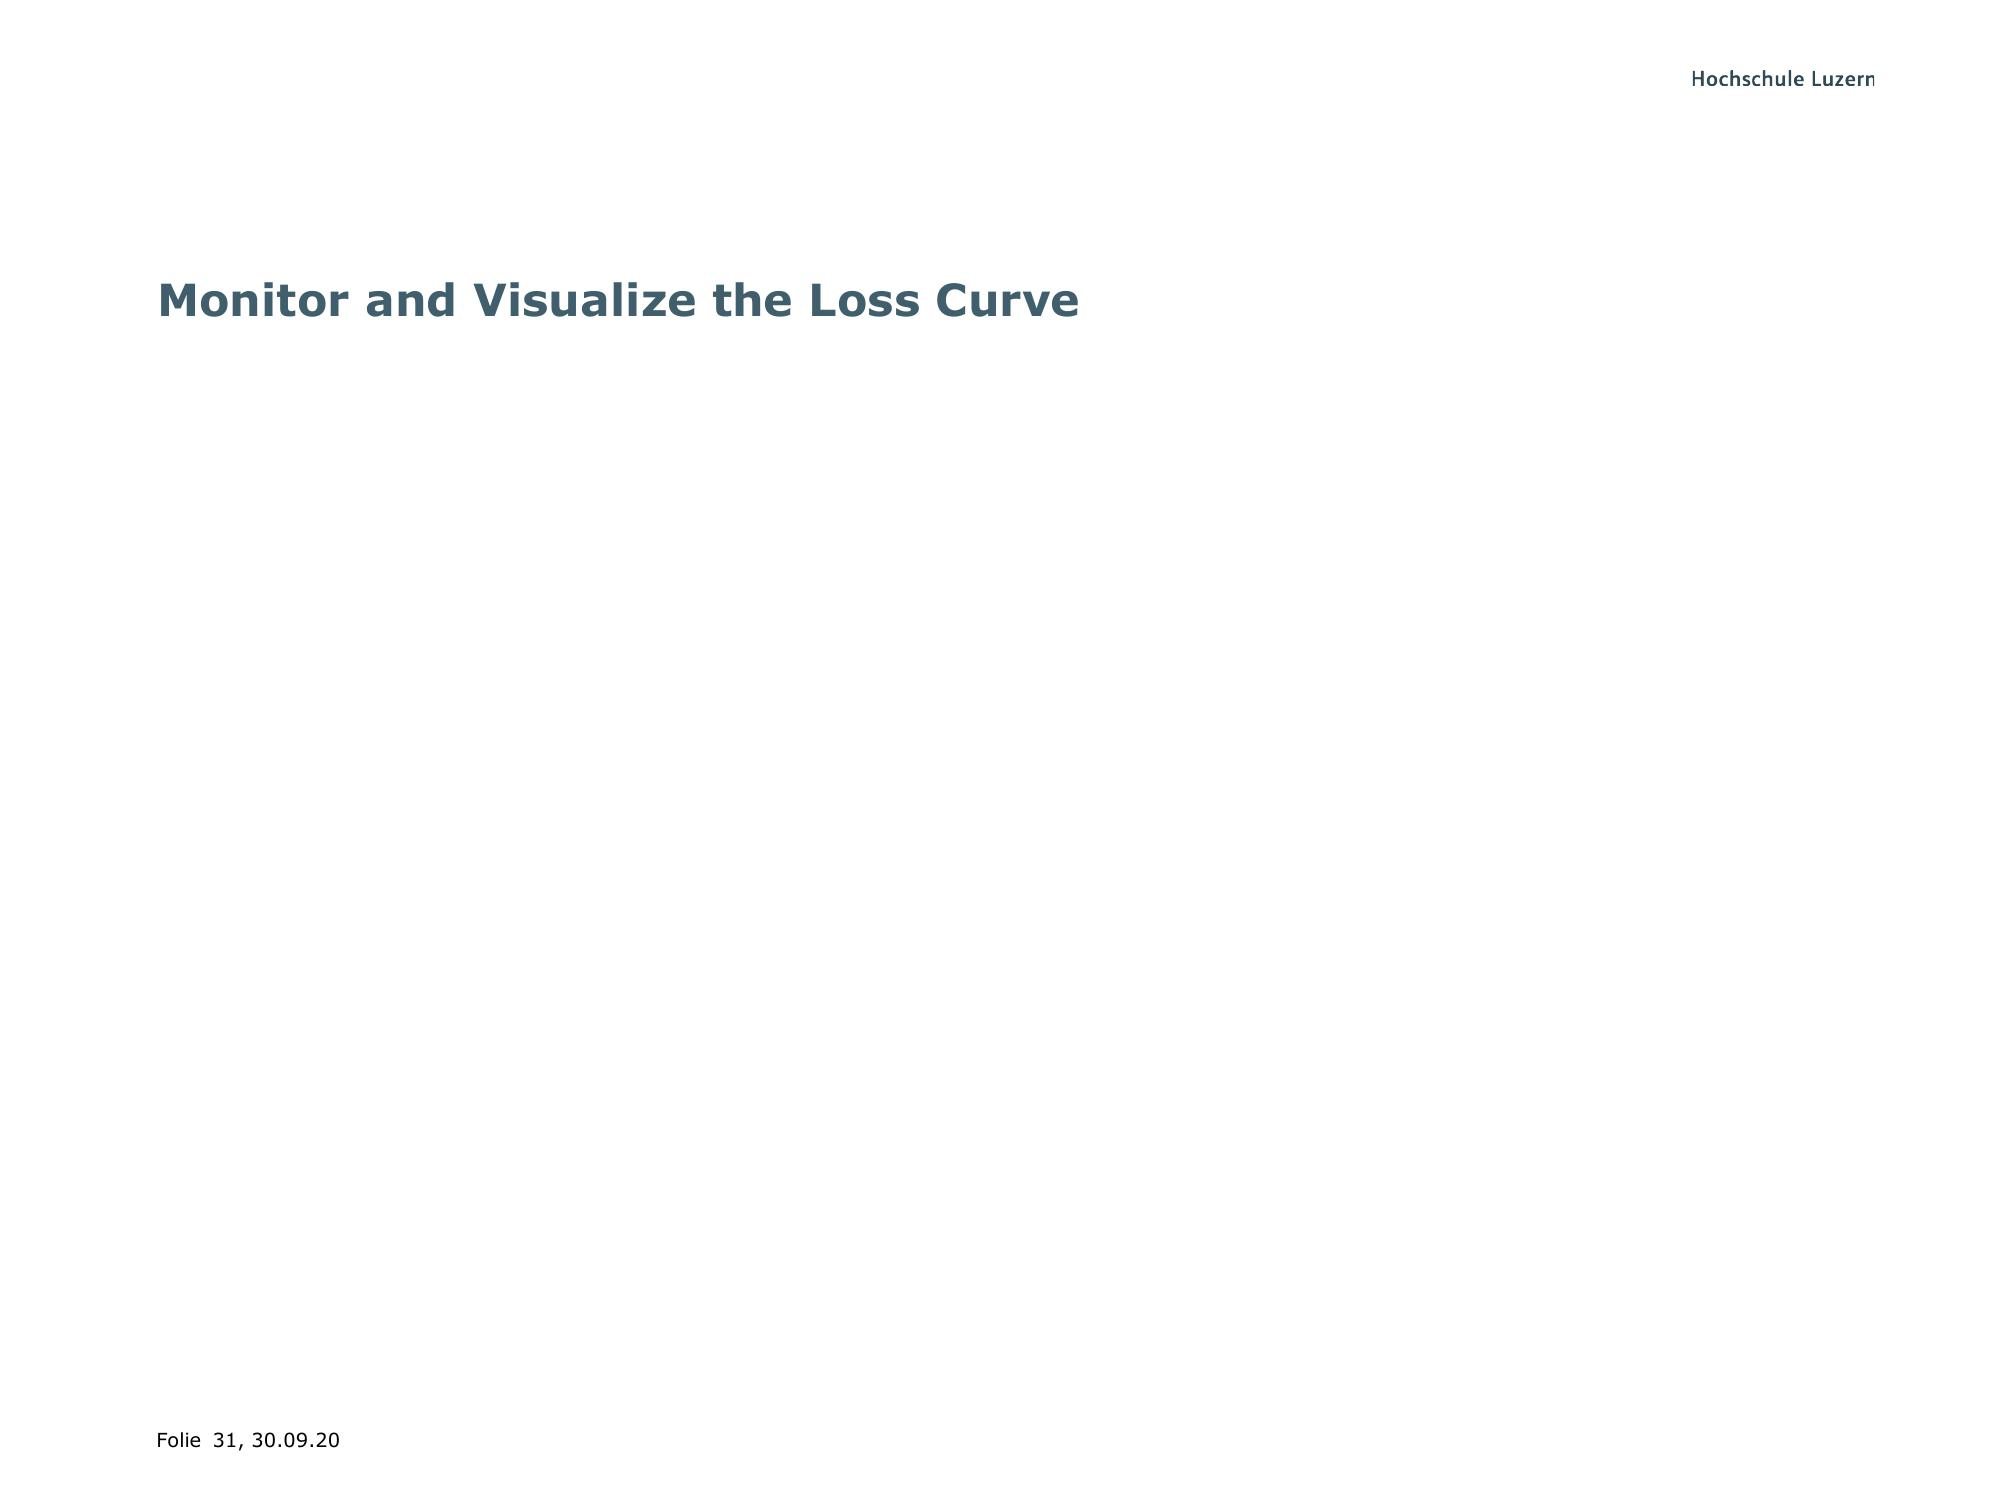Title: (88, 249, 1113, 347)
